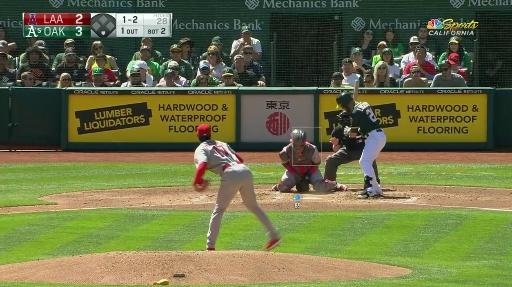pitcher: (191, 123, 284, 250)
